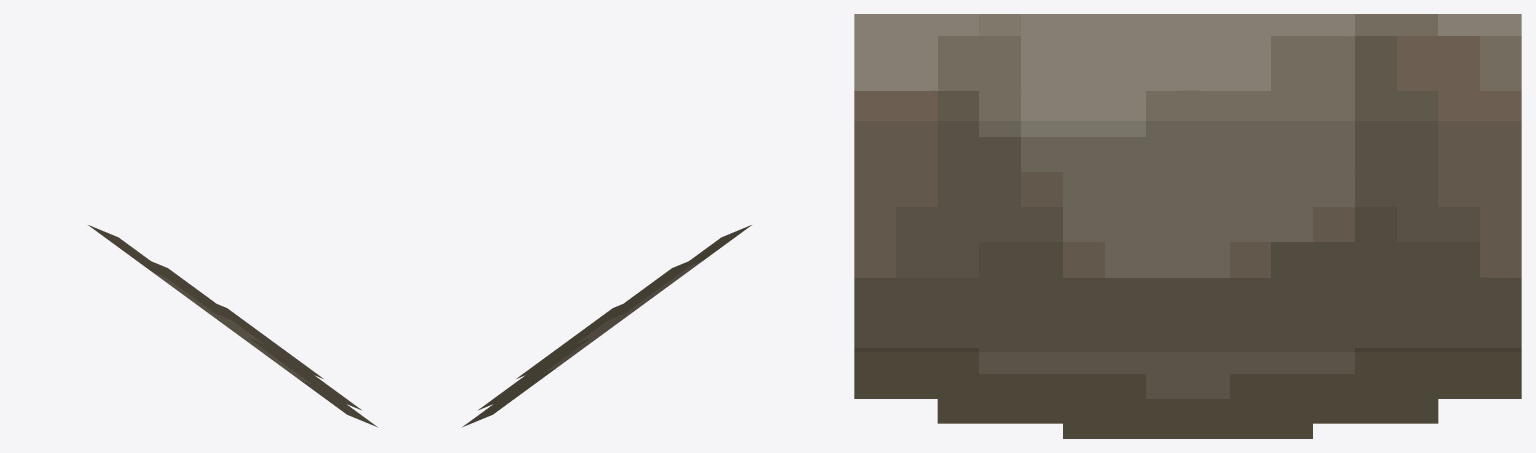
3 views of the same model, side by side, from view 1: azimuth 30°, elevation 25°; view 2: azimuth 150°, elevation 25°; view 3: azimuth 270°, elevation 25° (orthographic). The views are drawn at different scales.
Size of the model in its own units: 0.293 by 0.5662 by 1.
Materials: 1 (1 with a texture image).
